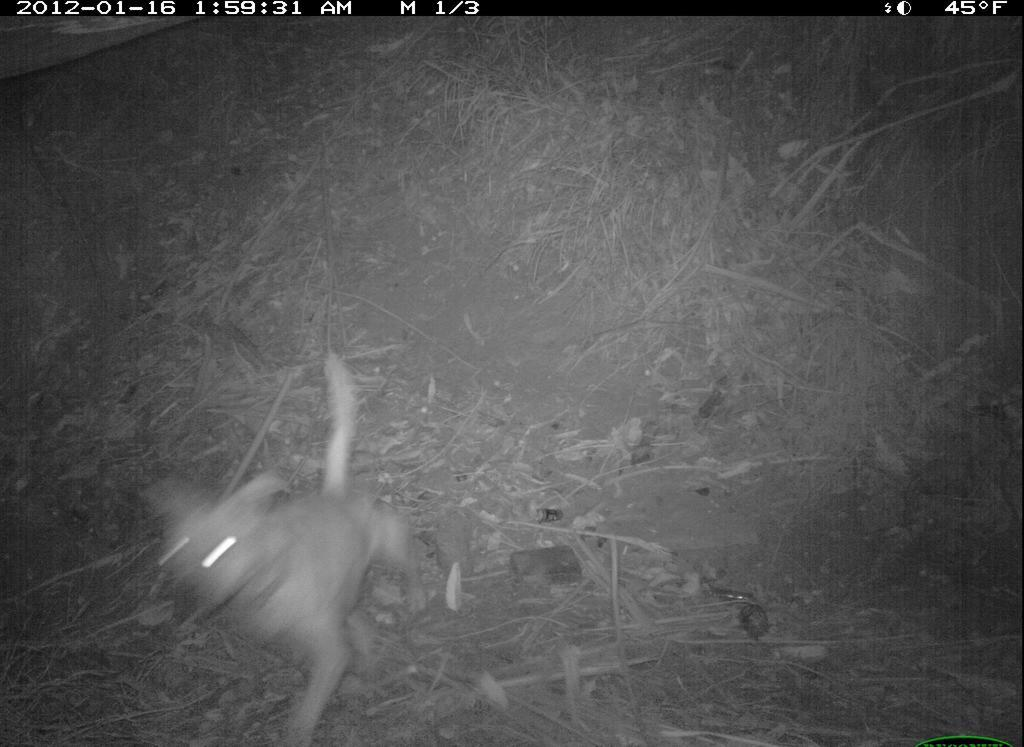dog: (111, 349, 470, 747)
